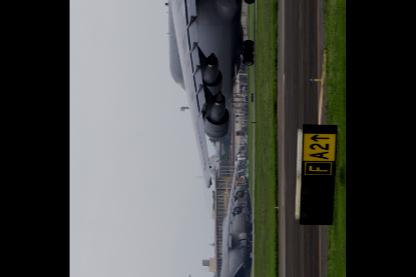C17: (162, 0, 256, 187), (186, 159, 253, 275)
